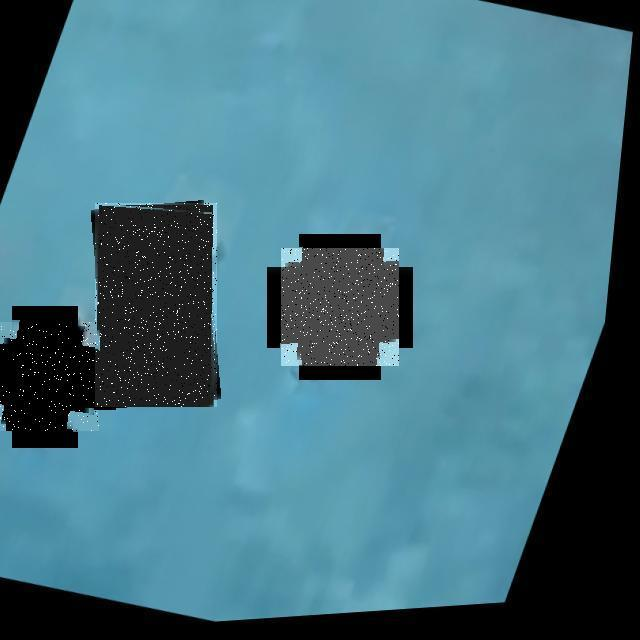swimming: (95, 203, 217, 407), (281, 248, 399, 366), (0, 322, 99, 431)
